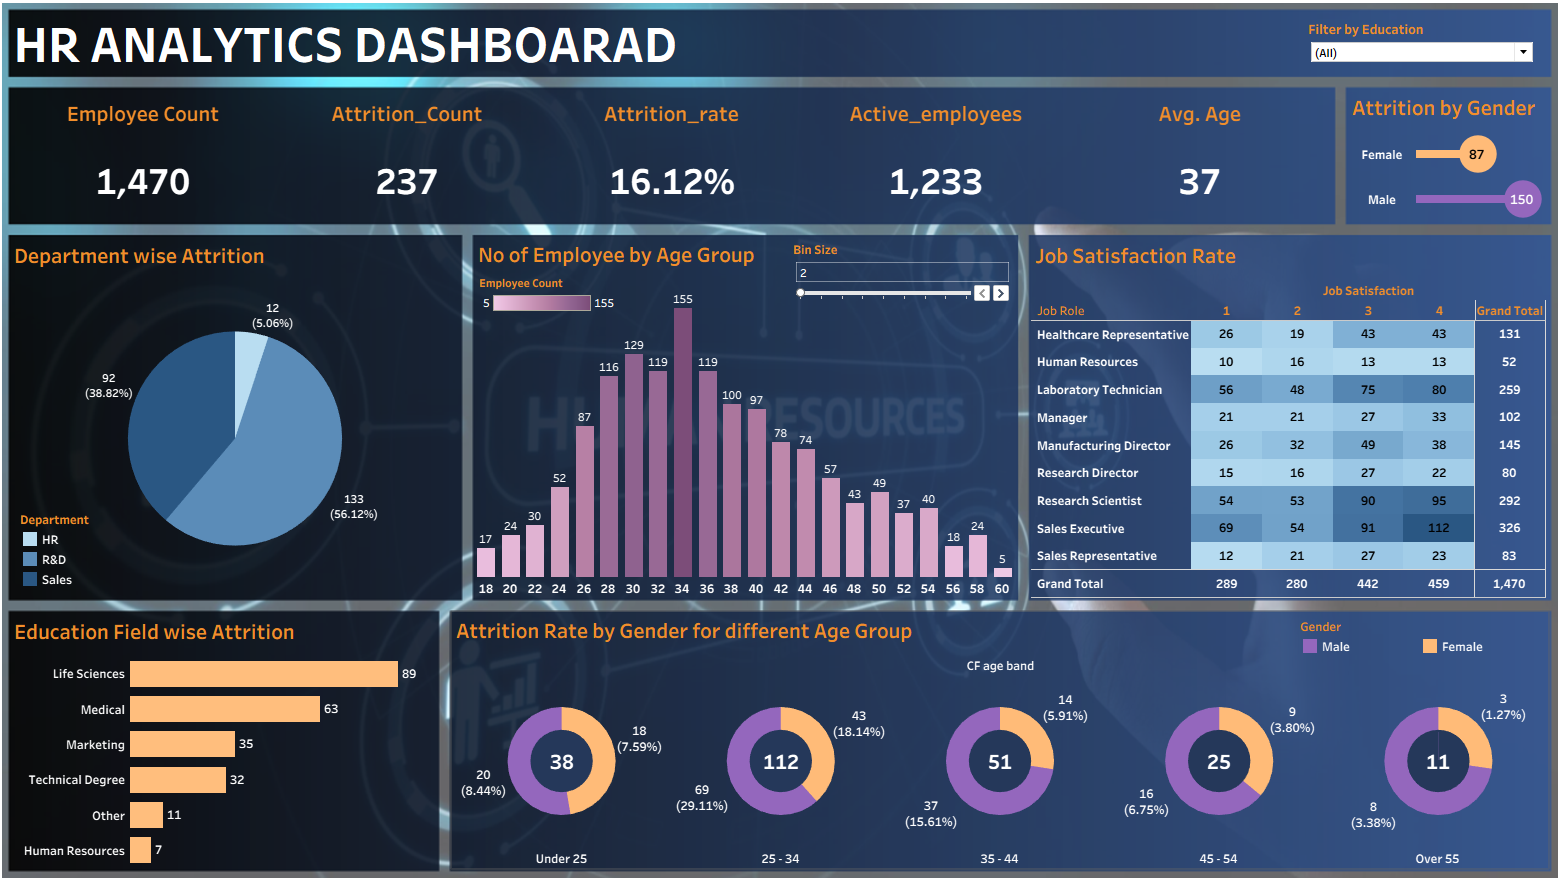

This screenshot's page, from the dashboard's own definition file:
{"tool":"tableau","page":{"name":"HR Analytics Dashboard","canvas":[1580,900],"ordinal":0},"visuals":[{"type":"image","param":"Image/HR background.pptx.png","box":[8,8,1564,884]},{"type":"text","box":[21,20,684,63]},{"type":"filter","title":"Attrition Rate by Gender for different Age Group","param":"[federated.1vwqptm14cv1c818kpiz51o6zd5x].[none:Education:nk]","box":[1318,29,228,45]},{"type":"worksheet","title":"KPI","mark":"Automatic","box":[21,98,1321,133]},{"type":"worksheet","title":"Attrition by Gender","mark":"Automatic","rows":["Gender"],"cols":["Calculation_1088838876184576","Calculation_1088838876184576"],"box":[1358,98,199,132]},{"type":"worksheet","title":"No of Employee by Age Group","mark":"Automatic","rows":["Employee Count"],"cols":["Age (bin)"],"box":[484,245,541,362]},{"type":"worksheet","title":"Department wise Attrition","mark":"Pie","box":[20,246,450,360]},{"type":"worksheet","title":"Job Satisfaction Rate","mark":"Square","rows":["Job Role"],"cols":["Job Satisfaction"],"box":[1041,246,516,361]},{"type":"parameter","param":"[Parameters].[Parameter 1]","box":[803,250,219,67]},{"type":"legend","title":"No of Employee by Age Group","param":"[federated.1vwqptm14cv1c818kpiz51o6zd5x].[sum:Employee Count:qk]","box":[489,284,140,46]},{"type":"legend","title":"Department wise Attrition","param":"[federated.1vwqptm14cv1c818kpiz51o6zd5x].[none:Department:nk]","box":[30,520,106,84]},{"type":"worksheet","title":"Attrition Rate by Gender for different Age Group","mark":"Pie","rows":["Calculation_1088838939275268","Calculation_1088838939275268"],"cols":["CF_age band"],"box":[462,621,1096,256]},{"type":"worksheet","title":"Education Field wise Attrition","mark":"Automatic","rows":["Education Field"],"cols":["Calculation_1088838876184576"],"box":[20,622,427,255]},{"type":"legend","title":"Attrition Rate by Gender for different Age Group","param":"[federated.1vwqptm14cv1c818kpiz51o6zd5x].[none:Gender:nk]","box":[1310,627,244,44]}]}

Visuals, with their boxes in screenshot pixels (x1, y1, x2, y2), scaled from the page's 1580x900 canvas onto the 1561x880 screenshot:
image: crop(8, 8, 1553, 872)
text: crop(21, 20, 697, 81)
"Attrition Rate by Gender for different Age Group" filter: crop(1302, 28, 1527, 72)
"KPI" worksheet: crop(21, 96, 1326, 226)
"Attrition by Gender" worksheet: crop(1342, 96, 1538, 225)
"No of Employee by Age Group" worksheet: crop(478, 240, 1013, 594)
"Department wise Attrition" worksheet (Pie marks): crop(20, 241, 464, 593)
"Job Satisfaction Rate" worksheet (Square marks): crop(1028, 241, 1538, 594)
parameter: crop(793, 244, 1010, 310)
"No of Employee by Age Group" legend: crop(483, 278, 621, 323)
"Department wise Attrition" legend: crop(30, 508, 134, 591)
"Attrition Rate by Gender for different Age Group" worksheet (Pie marks): crop(456, 607, 1539, 858)
"Education Field wise Attrition" worksheet: crop(20, 608, 442, 858)
"Attrition Rate by Gender for different Age Group" legend: crop(1294, 613, 1535, 656)
